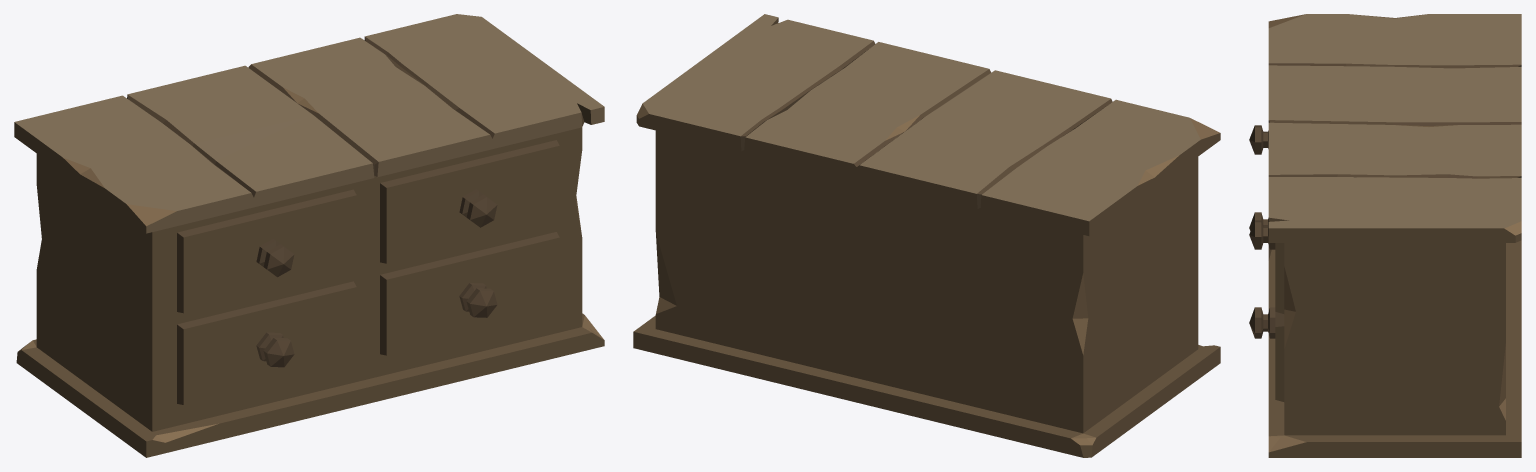
Rendered from SM_Prop_Dresser_02.fbx.
The picture shows the model from 3 angles, left to right: view 1: azimuth 30°, elevation 25°; view 2: azimuth 150°, elevation 25°; view 3: azimuth 270°, elevation 25°; orthographic projection. The views are drawn at different scales.
Parts seen in each view (by area): view 1: SM_Prop_Dresser_02; view 2: SM_Prop_Dresser_02; view 3: SM_Prop_Dresser_02.
Part boxes in pixels (<box>): SM_Prop_Dresser_02: <box>14,14,604,457</box>; SM_Prop_Dresser_02: <box>633,14,1220,457</box>; SM_Prop_Dresser_02: <box>1249,14,1521,457</box>.
Bounding box in the file's own units: 1.6 × 0.8004 × 0.8614.
Materials: 1 (1 with a texture image).
